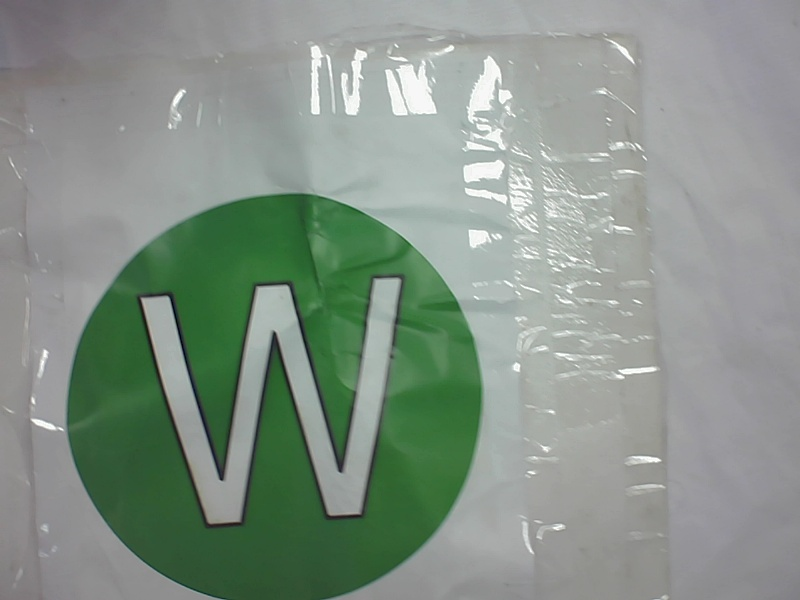areaB: (49, 184, 491, 598)
